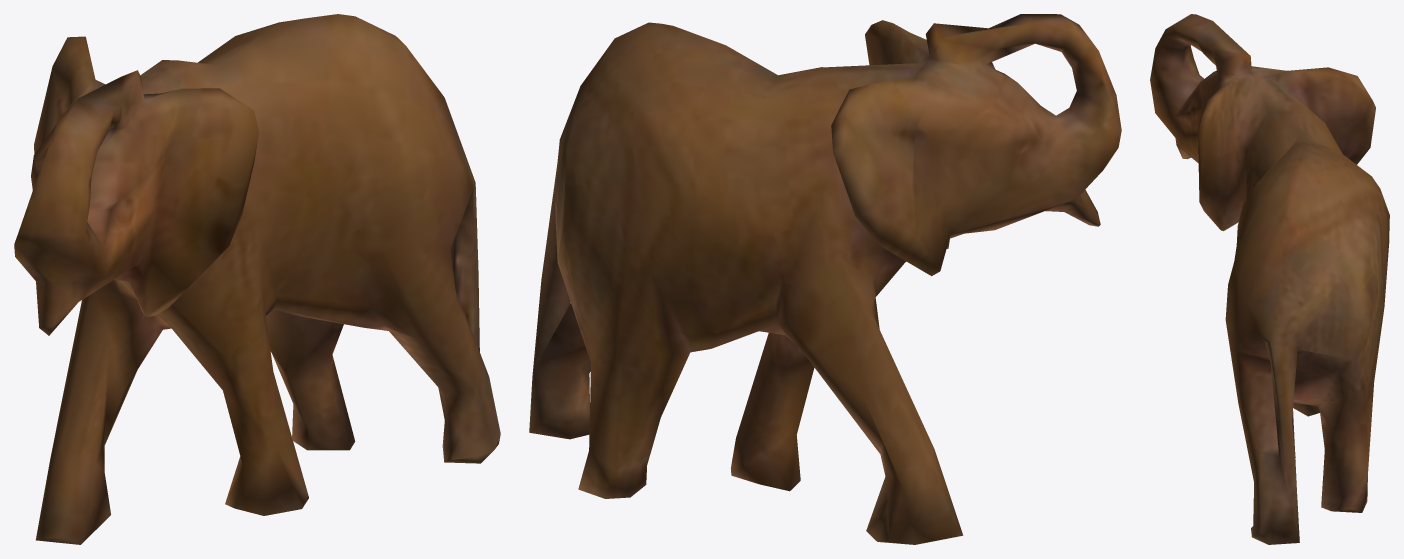
The model's file is elephant-carved.lite.38c52a60.glb.
3 renders of one model, left to right at view 1: azimuth 30°, elevation 25°; view 2: azimuth 150°, elevation 25°; view 3: azimuth 270°, elevation 25°, orthographic. The views are drawn at different scales.
Visible parts, largest first — view 1: model; view 2: model; view 3: model.
Boxes of the visible parts, x1,y1,x2,y2 form: model: [14, 14, 500, 544]; model: [529, 14, 1121, 544]; model: [1150, 14, 1389, 544].
Size of the model in its own units: 0.109 by 0.0958 by 0.0572.
Materials: 1 (1 with a texture image).
